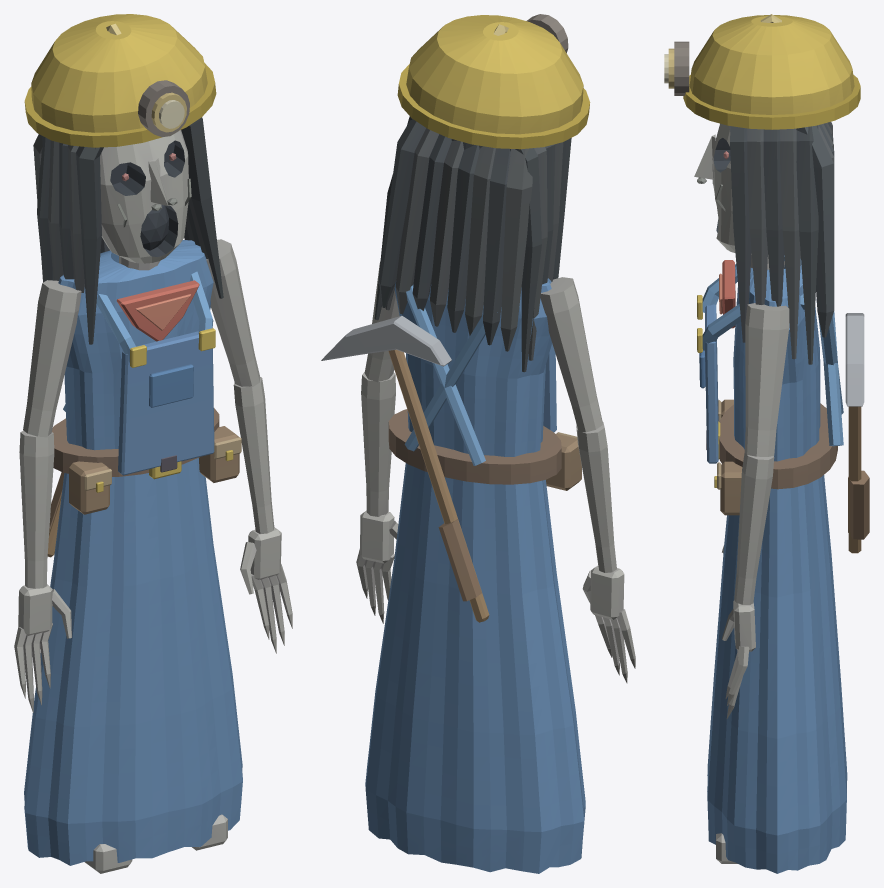
The model's file is SlendrinaMiner.glb.
3 views of the same model, side by side, from view 1: azimuth 30°, elevation 25°; view 2: azimuth 150°, elevation 25°; view 3: azimuth 270°, elevation 25° (orthographic). The views are drawn at different scales.
Parts seen in each view (by area): view 1: Body, Head, ArmR, ArmL, LegR; view 2: Body, Head, ArmR, ArmL; view 3: Body, Head, ArmL.
Boxes of the visible parts, left/top/right/bottom form: Body: left=24, top=240, right=242, bottom=865; Head: left=24, top=14, right=223, bottom=344; ArmR: left=14, top=280, right=81, bottom=712; ArmL: left=206, top=239, right=292, bottom=653; LegR: left=84, top=844, right=132, bottom=873; Body: left=321, top=278, right=585, bottom=873; Head: left=374, top=14, right=590, bottom=372; ArmR: left=540, top=277, right=635, bottom=683; ArmL: left=356, top=262, right=399, bottom=623; Body: left=697, top=255, right=869, bottom=873; Head: left=664, top=14, right=860, bottom=364; ArmL: left=722, top=303, right=789, bottom=718.
Bounding box in the file's own units: 2.44 × 7.06 × 1.62.
